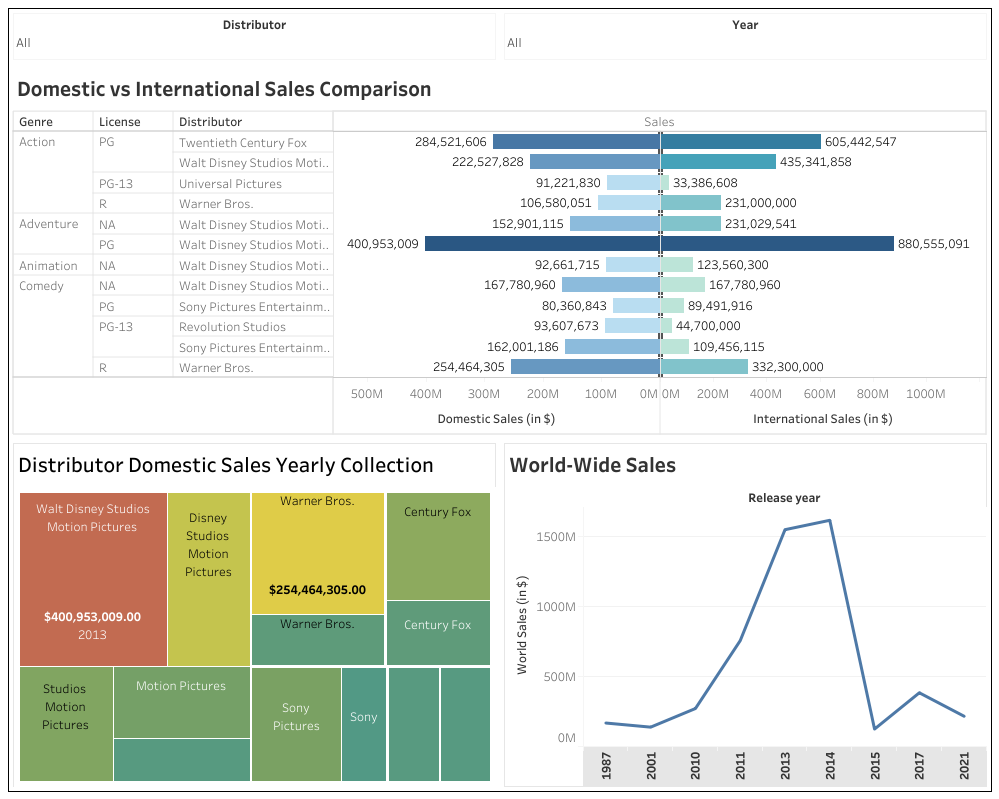

The page's visual inventory and layout, read from the dashboard file:
{"tool":"tableau","page":{"name":"Dashboard 2","canvas":[1000,800],"ordinal":1},"visuals":[{"type":"filter","title":"Distributor Yearly Collection","param":"[federated.08z6z3q0gwgov017brv4e0kg8fdn].[none:Distributor:nk]","box":[9,9,491,55]},{"type":"filter","title":"Distributor Yearly Collection","param":"[federated.08z6z3q0gwgov017brv4e0kg8fdn].[none:Calculation_634726078107238401:ok","box":[500,9,491,55]},{"type":"worksheet","title":"Domestic vs International Sales Comparison","mark":"Bar","rows":["Genre - Split 1","License","Distributor"],"cols":["Calculation_561261115854585859","Domestic Sales (in $)","International Sales (in $)"],"box":[9,64,982,375]},{"type":"worksheet","title":"Distributor Yearly Collection","mark":"Automatic","box":[9,439,491,352]},{"type":"worksheet","title":"World-Wide Sales","mark":"Automatic","rows":["World Sales (in $)"],"cols":["Release year"],"box":[500,439,491,352]}]}

Visuals, with their boxes in screenshot pixels (x1, y1, x2, y2), scaled from the page's 1000x800 canvas onto the 999x799 screenshot:
"Distributor Yearly Collection" filter: (9,9,500,64)
"Distributor Yearly Collection" filter: (500,9,990,64)
"Domestic vs International Sales Comparison" worksheet (Bar marks): (9,64,990,438)
"Distributor Yearly Collection" worksheet: (9,438,500,790)
"World-Wide Sales" worksheet: (500,438,990,790)
